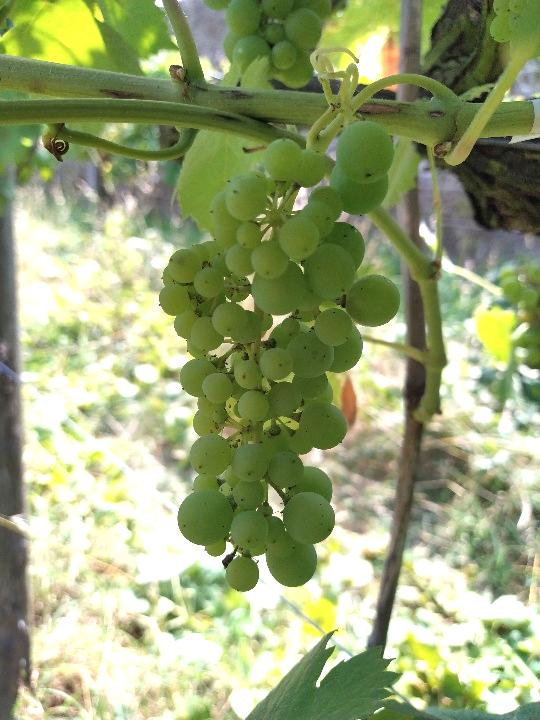grape: (154, 117, 401, 595)
